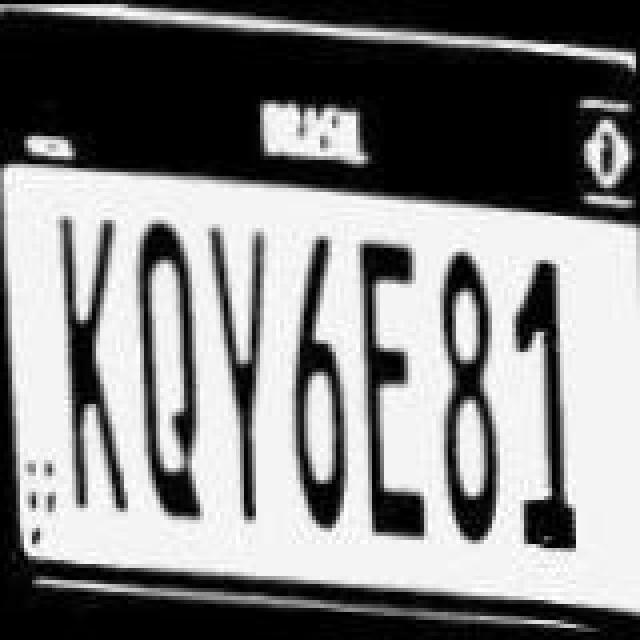1: (502, 260, 578, 564)
6: (284, 236, 348, 552)
8: (436, 246, 500, 554)
E: (352, 238, 424, 546)
K: (54, 216, 126, 528)
Q: (126, 220, 202, 536)
Y: (204, 220, 272, 532)
